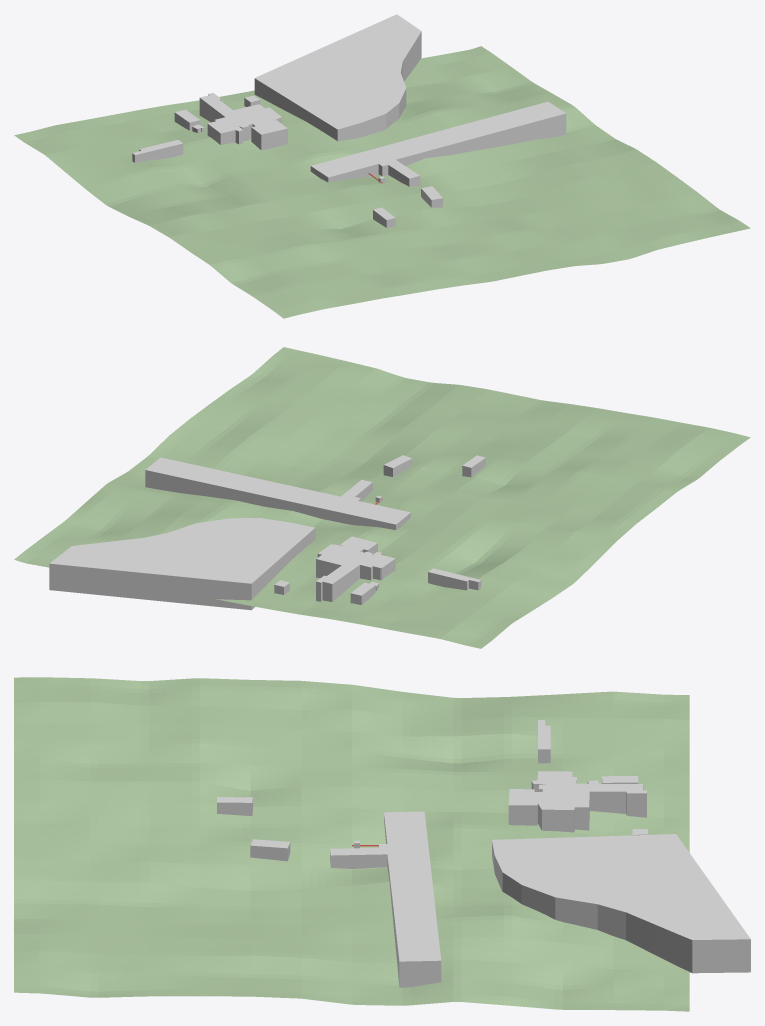
Rendered from bilim_agaci_ref.glb.
3 views of the same model, one above another, from view 1: azimuth 30°, elevation 25°; view 2: azimuth 150°, elevation 25°; view 3: azimuth 270°, elevation 25° (orthographic). The views are drawn at different scales.
Parts seen in each view (by area): view 1: ARAZI, KOMSU_BINALAR; view 2: ARAZI, KOMSU_BINALAR; view 3: ARAZI, KOMSU_BINALAR.
Part boxes in pixels (x1=…): ARAZI: x1=14, y1=46, x2=750, y2=318; KOMSU_BINALAR: x1=132, y1=14, x2=566, y2=227; ARAZI: x1=14, y1=347, x2=750, y2=648; KOMSU_BINALAR: x1=49, y1=455, x2=485, y2=610; ARAZI: x1=14, y1=677, x2=689, y2=1011; KOMSU_BINALAR: x1=217, y1=720, x2=750, y2=987.
Bounding box in the file's own units: 400 × 32.84 × 436.
